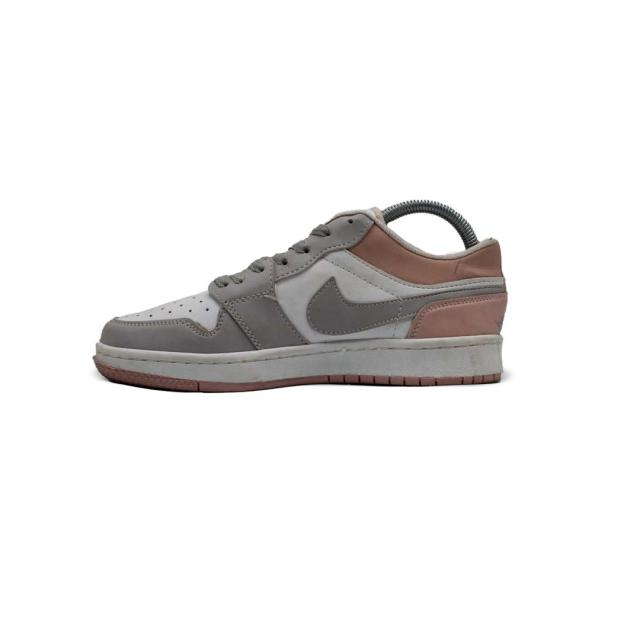heel: (468, 237, 514, 332)
midsole: (78, 345, 504, 388)
uppersole: (86, 255, 468, 347)
